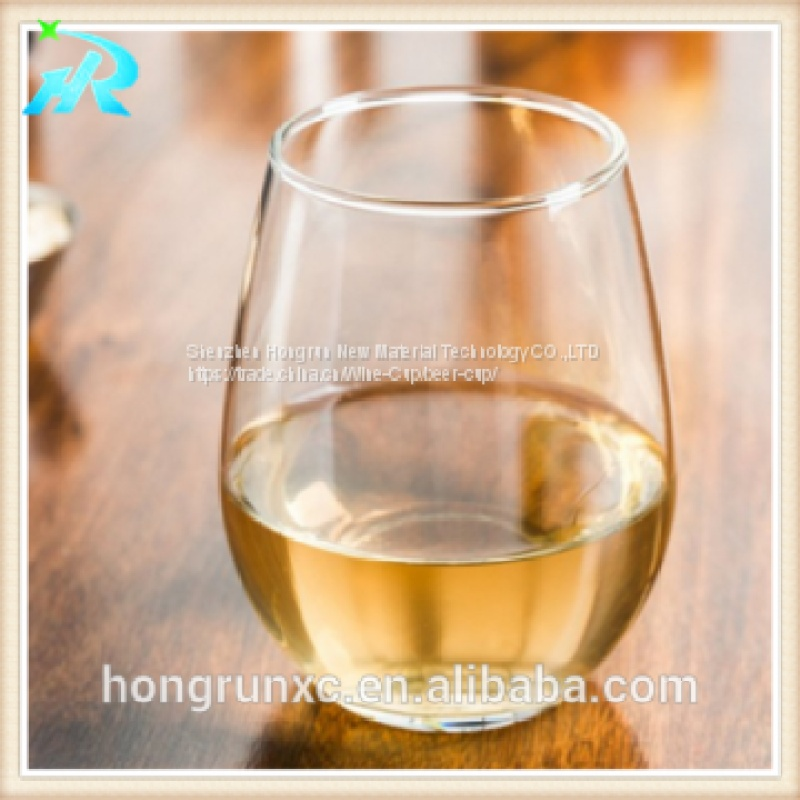whiskey: (232, 92, 664, 714)
